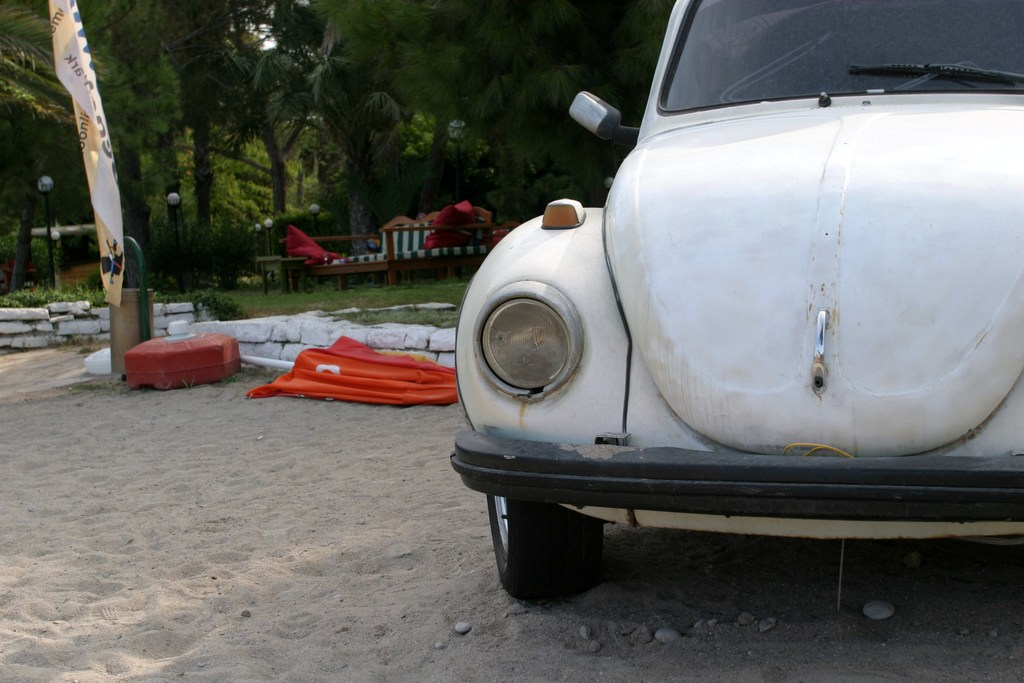cars: (449, 0, 1023, 603)
